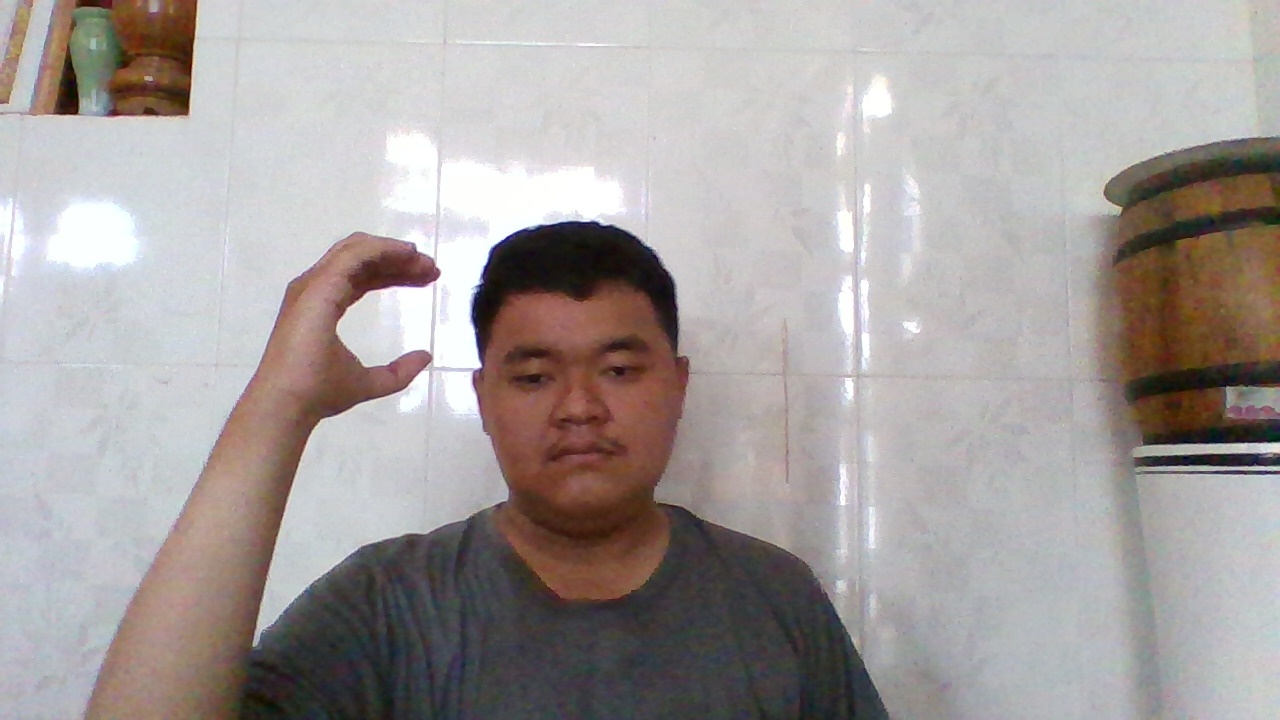C: (276, 229, 443, 420)
